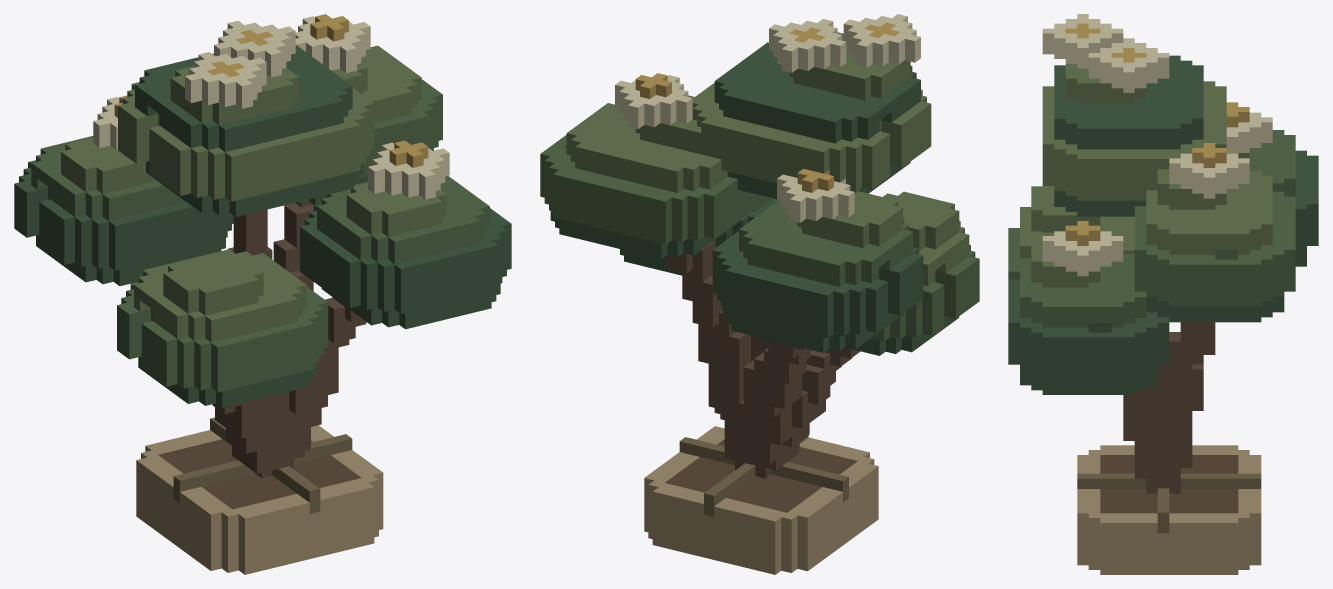
The model's file is elderberry_packed_summer.glb.
3 renders of one model, left to right at view 1: azimuth 30°, elevation 25°; view 2: azimuth 150°, elevation 25°; view 3: azimuth 270°, elevation 25°, orthographic. The views are drawn at different scales.
Visible parts, largest first — view 1: VoxelVisual; view 2: VoxelVisual; view 3: VoxelVisual.
Part boxes in pixels (left/top/right/bottom): VoxelVisual: left=14, top=14, right=511, bottom=574; VoxelVisual: left=540, top=14, right=979, bottom=574; VoxelVisual: left=1008, top=14, right=1318, bottom=574.
Size of what is drawn, in the model's own units: 2.12 by 2.81 by 1.69.
